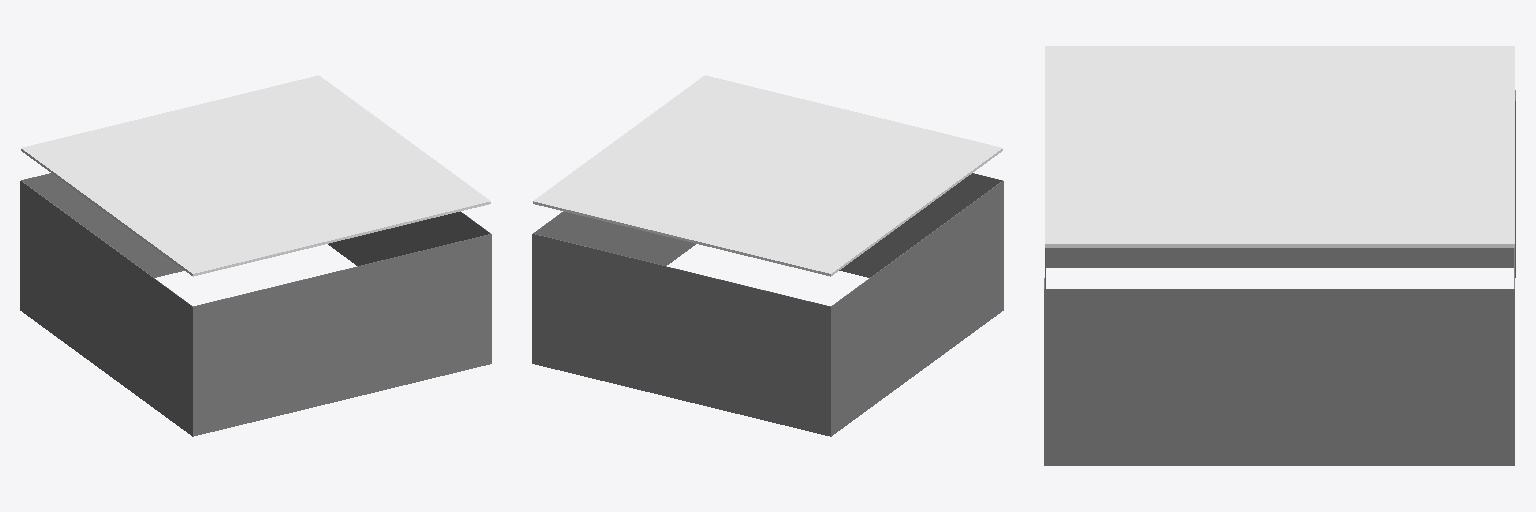
robot.urdf — walls:
<?xml version="1.0"?>
<robot name="walls">
  <material name="White">
    <color rgba="0.8 0.8 0.8 0.9"/>
  </material>
  <material name="Blue">
    <color rgba="0 0.1 0.8 0.9"/>
  </material>
  <material name="Red">
    <color rgba="1 0 0 1"/>
  </material>
  <material name="Green">
    <color rgba="0 1 0 1"/>
  </material>
  <material name="Gray">
    <color rgba="0.6 0.6 0.6 1"/>
  </material>
  <material name="Black"><!-- or brown-->
    <color rgba="0.2 0.1 0.1 1"/>
  </material>
     
  <link name="wall_base">
    <inertial>
      <origin xyz="0 0 0" rpy="0 0 0"/>
      <mass value="1.0" />
      <inertia  ixx="1.0" ixy="0.0"  ixz="0.0"  iyy="100.0"  iyz="0.0"  izz="1.0" />
    </inertial>
    <visual>
      <origin xyz="0 0 -0.01" rpy="0 0 0"/>
      <geometry>
        <box size="0.01 0.01 0.01"/>
      </geometry>
      <material name="Gray"/>
    </visual>
    <collision>
      <origin xyz="0 0 0" rpy="0 0 0"/>
      <geometry>
        <box size="6 6 0.01"/>
      </geometry>
    </collision>
  </link>
  
  <joint name="j_wall_one" type="fixed">
    <parent link="wall_base"/>
    <child link="l_wall_one"/>
    <origin rpy="0 0 0" xyz="0 0 0"/>
  </joint>
        
  <link name="l_wall_one">
    <inertial>
      <origin xyz="0 0 0" rpy="0 0 0"/>
      <mass value="1.0" />
      <inertia  ixx="1.0" ixy="0.0"  ixz="0.0"  iyy="100.0"  iyz="0.0"  izz="1.0" />
    </inertial>
    <visual>
      <origin xyz="3 0 1.25" rpy="0 0 0"/>
      <geometry>
        <box size=".01 6 2.5"/>
      </geometry>
      <material name="Gray"/>
    </visual>
    <collision>
      <origin xyz="3 0 1.25" rpy="0 0 0"/>
      <geometry>
        <box size=".01 6 2.5"/>
      </geometry>
    </collision>
  </link>
  

  <joint name="j_wall_two" type="fixed">
    <parent link="wall_base"/>
    <child link="l_wall_two"/>
    <origin rpy="0 0 0" xyz="0 0 0"/>
  </joint>
        
  <link name="l_wall_two">
    <inertial>
      <origin xyz="0 0 0" rpy="0 0 0"/>
      <mass value="1.0" />
      <inertia  ixx="1.0" ixy="0.0"  ixz="0.0"  iyy="100.0"  iyz="0.0"  izz="1.0" />
    </inertial>
    <visual>
      <origin xyz="-3 0 1.25" rpy="0 0 0"/>
      <geometry>
        <box size=".01 6 2.5"/>
      </geometry>
      <material name="Gray"/>
    </visual>
    <collision>
      <origin xyz="-3 0 1.25" rpy="0 0 0"/>
      <geometry>
        <box size=".01 6 2.5"/>
      </geometry>
    </collision>
  </link>-->
  
  
  <joint name="j_wall_three" type="fixed">
    <parent link="wall_base"/>
    <child link="l_wall_three"/>
    <origin rpy="0 0 0" xyz="0 0 0"/>
  </joint>
        
  <link name="l_wall_three">
    <inertial>
      <origin xyz="0 0 0" rpy="0 0 0"/>
      <mass value="1.0" />
      <inertia  ixx="1.0" ixy="0.0"  ixz="0.0"  iyy="100.0"  iyz="0.0"  izz="1.0" />
    </inertial>
    <visual>
      <origin xyz="0 3 1.25" rpy="0 0 1.57"/>
      <geometry>
        <box size=".01 6 2.5"/>
      </geometry>
      <material name="Gray"/>
    </visual>
    <collision>
      <origin xyz="0 3 1.25" rpy="0 0 1.57"/>
      <geometry>
        <box size=".01 6 2.5"/>
      </geometry>
    </collision>
  </link>
  
  
  <joint name="j_wall_four" type="fixed">
    <parent link="wall_base"/>
    <child link="l_wall_four"/>
    <origin rpy="0 0 0" xyz="0 0 0"/>
  </joint>
        
  <link name="l_wall_four">
    <inertial>
      <origin xyz="0 0 0" rpy="0 0 0"/>
      <mass value="1.0" />
      <inertia  ixx="1.0" ixy="0.0"  ixz="0.0"  iyy="100.0"  iyz="0.0"  izz="1.0" />
    </inertial>
    <visual>
      <origin xyz="0 -3 1.25" rpy="0 0 1.57"/>
      <geometry>
        <box size=".01 6 2.5"/>
      </geometry>
      <material name="Gray"/>
    </visual>
    <collision>
      <origin xyz="0 -3 1.25" rpy="0 0 1.57"/>
      <geometry>
        <box size=".01 6 2.5"/>
      </geometry>
    </collision>
  </link>

  <joint name="j_wall_roof" type="fixed">
    <parent link="wall_base"/>
    <child link="l_wall_roof"/>
    <origin rpy="0 0 0" xyz="0 0 0"/>
  </joint>

  <link name="l_wall_roof">
    <inertial>
      <origin xyz="0 0 0" rpy="0 0 0"/>
      <mass value="1.0" />
      <inertia  ixx="1.0" ixy="0.0"  ixz="0.0"  iyy="100.0"  iyz="0.0"  izz="1.0" />
    </inertial>
    <visual>
      <origin xyz="0 0 3.1" rpy="0 0 0"/>
      <geometry>
        <box size="6 6 0.05"/>
      </geometry>
      <material name="noColor">
        <color rgba="1 1 1 0.1"/>
      </material>
    </visual>
    <collision>
      <origin xyz="0 0 3.1" rpy="0 0 0"/>
      <geometry>
        <box size="6 6 0.05"/>
      </geometry>
    </collision>
  </link>
</robot>

--- Facts derived from the render (not from the file) ---
The picture shows the robot from 3 angles, left to right: view 1: azimuth 30°, elevation 25°; view 2: azimuth 150°, elevation 25°; view 3: azimuth 270°, elevation 25°; orthographic projection.
Model walls with 6 links and 5 joints (5 fixed), rooted at wall_base, posed every joint at zero.
Visible links, largest first — view 1: l_wall_roof, l_wall_four, l_wall_two, l_wall_one, l_wall_three; view 2: l_wall_roof, l_wall_three, l_wall_two, l_wall_one, l_wall_four; view 3: l_wall_roof, l_wall_one, l_wall_two.
Boxes of the visible links, bbox=[...] form: l_wall_roof: bbox=[21, 75, 490, 276]; l_wall_four: bbox=[193, 234, 490, 436]; l_wall_two: bbox=[20, 181, 192, 436]; l_wall_one: bbox=[328, 211, 491, 363]; l_wall_three: bbox=[21, 173, 183, 277]; l_wall_roof: bbox=[533, 75, 1002, 276]; l_wall_three: bbox=[533, 234, 830, 436]; l_wall_two: bbox=[831, 181, 1003, 436]; l_wall_one: bbox=[532, 211, 695, 363]; l_wall_four: bbox=[839, 173, 1002, 277]; l_wall_roof: bbox=[1045, 46, 1514, 247]; l_wall_one: bbox=[1045, 289, 1514, 465]; l_wall_two: bbox=[1046, 248, 1513, 267].
Bounding box of the posed robot: 6.01 × 6.01 × 3.14 m (x, y, z).
Geometry: primitives only (box / cylinder / sphere), no mesh files.